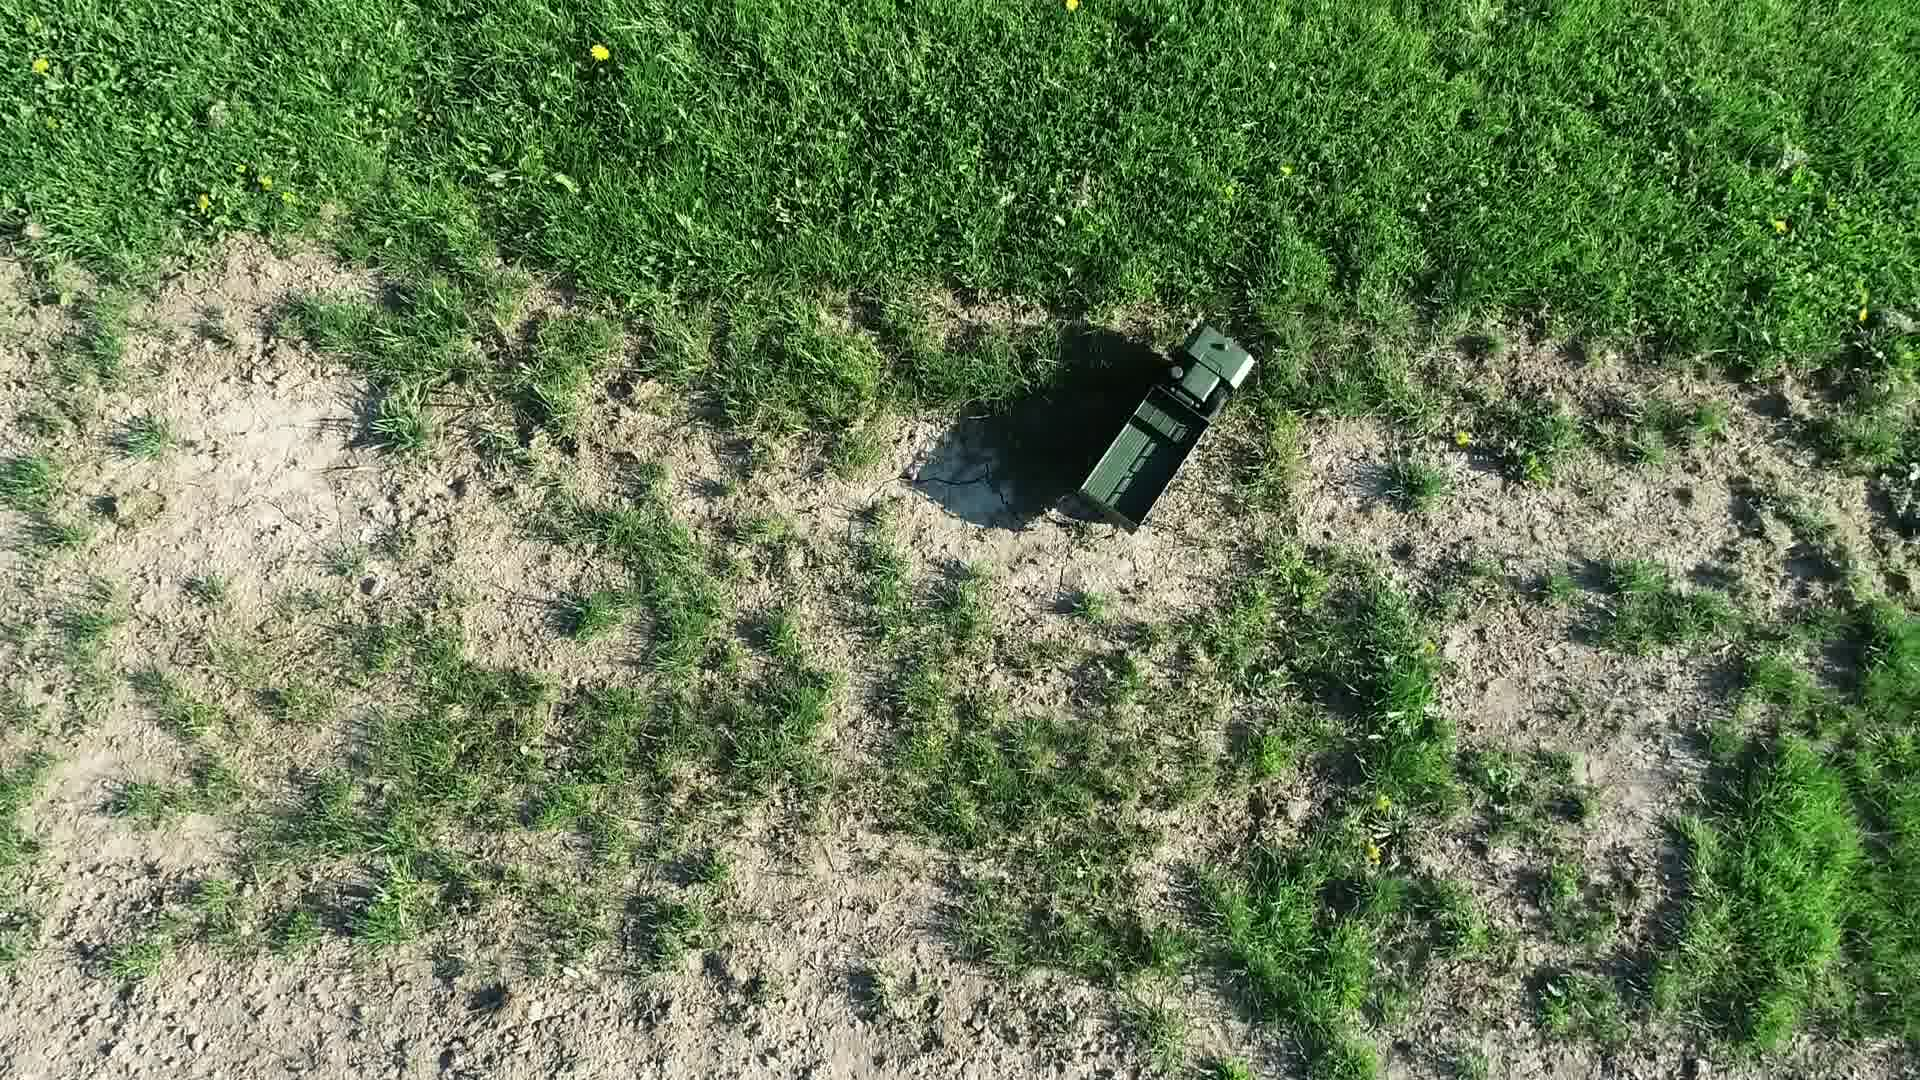transporter9: (1058, 316, 1265, 553)
